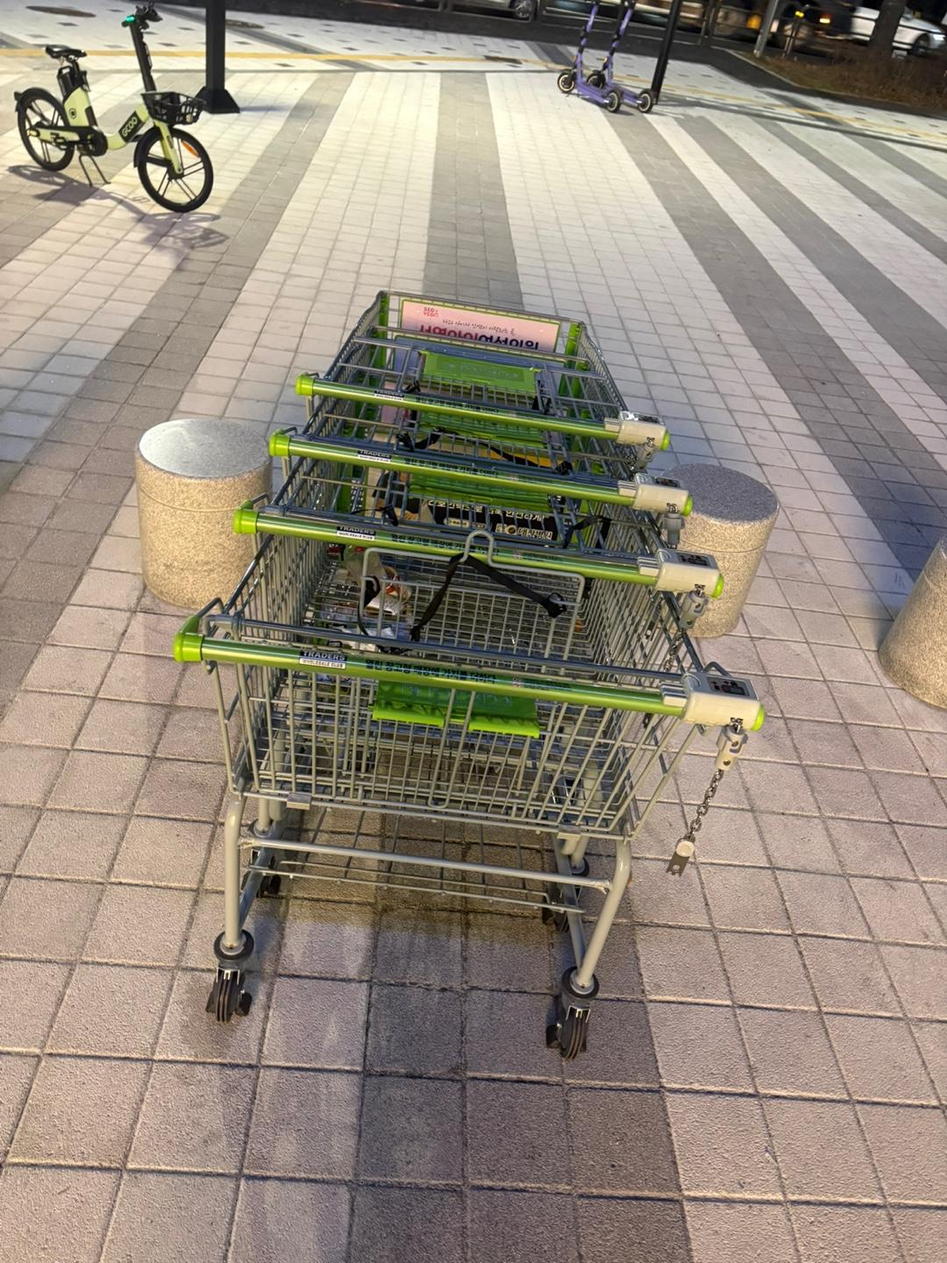combined_cart: (146, 268, 798, 1096)
